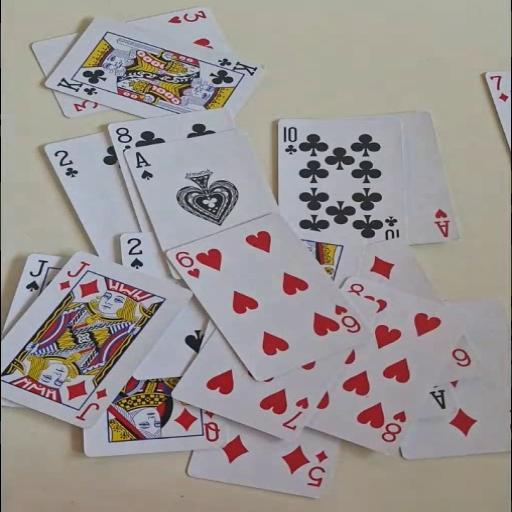10: (281, 124, 299, 156)
2: (50, 148, 80, 178), (124, 236, 146, 270)
3: (165, 8, 208, 25)
5: (304, 448, 331, 489)
6: (331, 302, 363, 334), (172, 249, 202, 279)
7: (279, 395, 312, 431), (486, 74, 510, 102)
8: (378, 408, 408, 444), (112, 125, 134, 150)
A: (132, 149, 154, 181), (432, 206, 452, 238)
J: (72, 386, 109, 422), (55, 259, 92, 291)
K: (214, 55, 260, 77), (53, 75, 100, 96)
